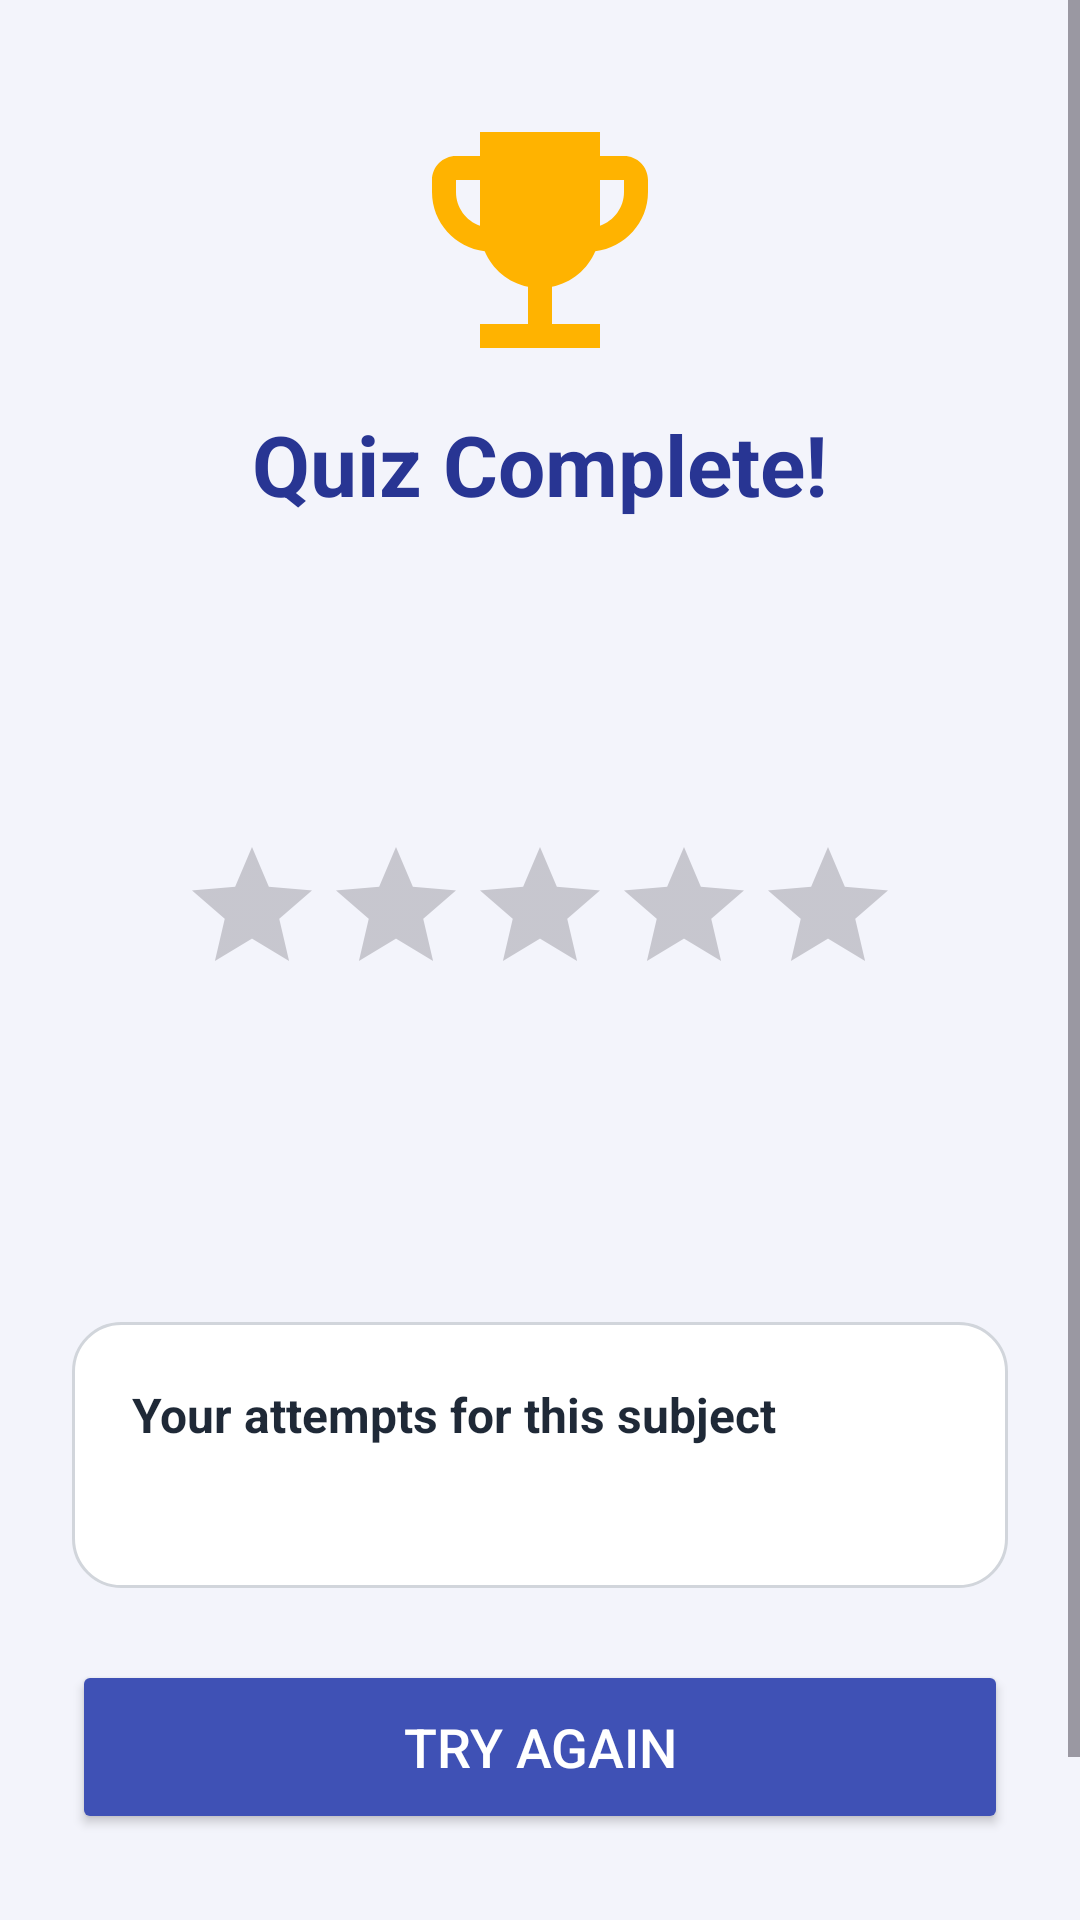

Screen size 1080w x 1920h. Icon name, then its center in pixels as [x,y]:
Trophy icon: [540,240]
